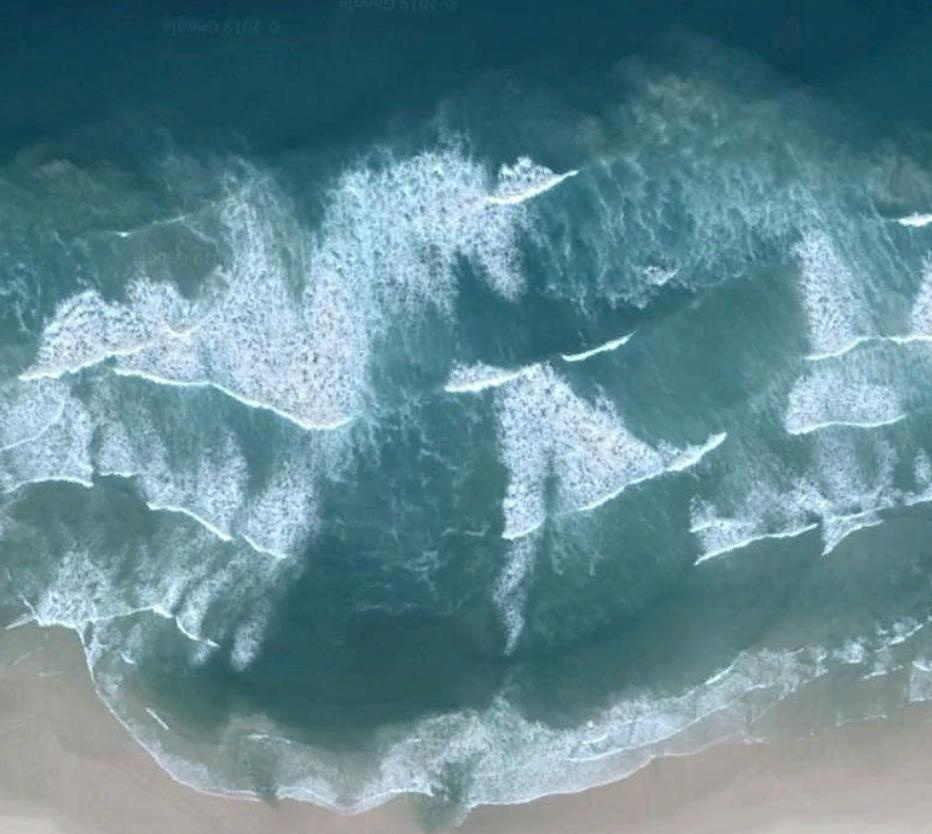rip_current: (244, 176, 538, 730)
